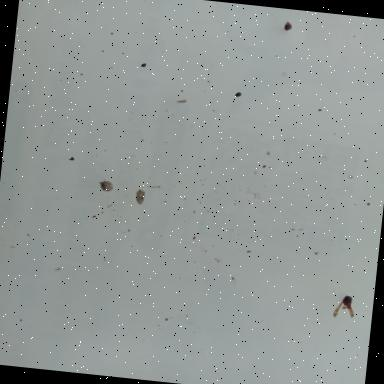pbw: (134, 188, 146, 205)
